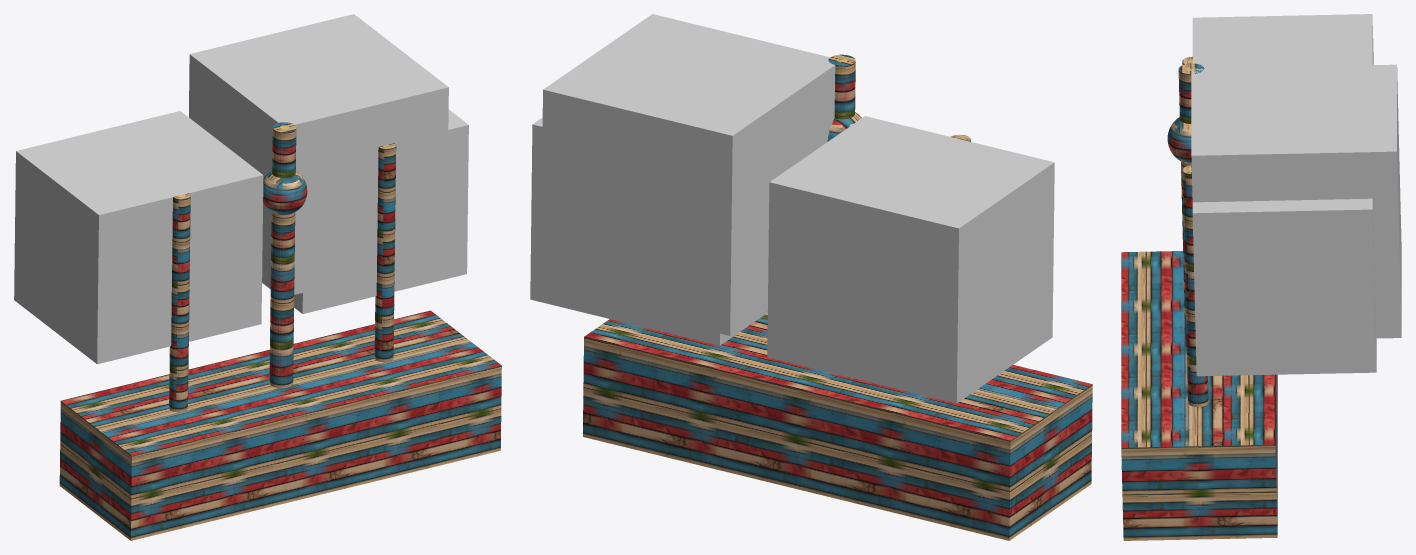
File: asset.glb
The picture shows the model from 3 angles, left to right: view 1: azimuth 30°, elevation 25°; view 2: azimuth 150°, elevation 25°; view 3: azimuth 270°, elevation 25°; orthographic projection. The views are drawn at different scales.
Visible parts, largest first — view 1: hull, sail_fore, sail_main, sail_mizzen, mast_main, mast_fore, mast_mizzen, crow_nest; view 2: sail_main, sail_fore, hull, sail_mizzen, mast_main; view 3: hull, sail_main, sail_mizzen, sail_fore, mast_mizzen, mast_main, crow_nest.
Boxes of the visible parts, left/top/right/bottom form: hull: left=59, top=310, right=501, bottom=540; sail_fore: left=14, top=111, right=263, bottom=364; sail_main: left=189, top=14, right=448, bottom=294; sail_mizzen: left=262, top=109, right=468, bottom=313; mast_main: left=269, top=122, right=296, bottom=388; mast_fore: left=169, top=193, right=190, bottom=412; mast_mizzen: left=374, top=143, right=396, bottom=362; crow_nest: left=263, top=171, right=307, bottom=214; sail_main: left=540, top=14, right=835, bottom=335; sail_fore: left=767, top=116, right=1054, bottom=403; hull: left=583, top=313, right=1092, bottom=540; sail_mizzen: left=530, top=117, right=767, bottom=345; mast_main: left=828, top=54, right=855, bottom=119; hull: left=1121, top=251, right=1277, bottom=540; sail_main: left=1191, top=64, right=1401, bottom=338; sail_mizzen: left=1192, top=198, right=1376, bottom=376; sail_fore: left=1192, top=14, right=1373, bottom=68; mast_mizzen: left=1182, top=165, right=1208, bottom=406; mast_main: left=1178, top=63, right=1204, bottom=350; crow_nest: left=1167, top=117, right=1191, bottom=164.
Bounding box in the file's own units: 9 × 8.12 × 5.45.
Materials: 3 (1 with a texture image).
